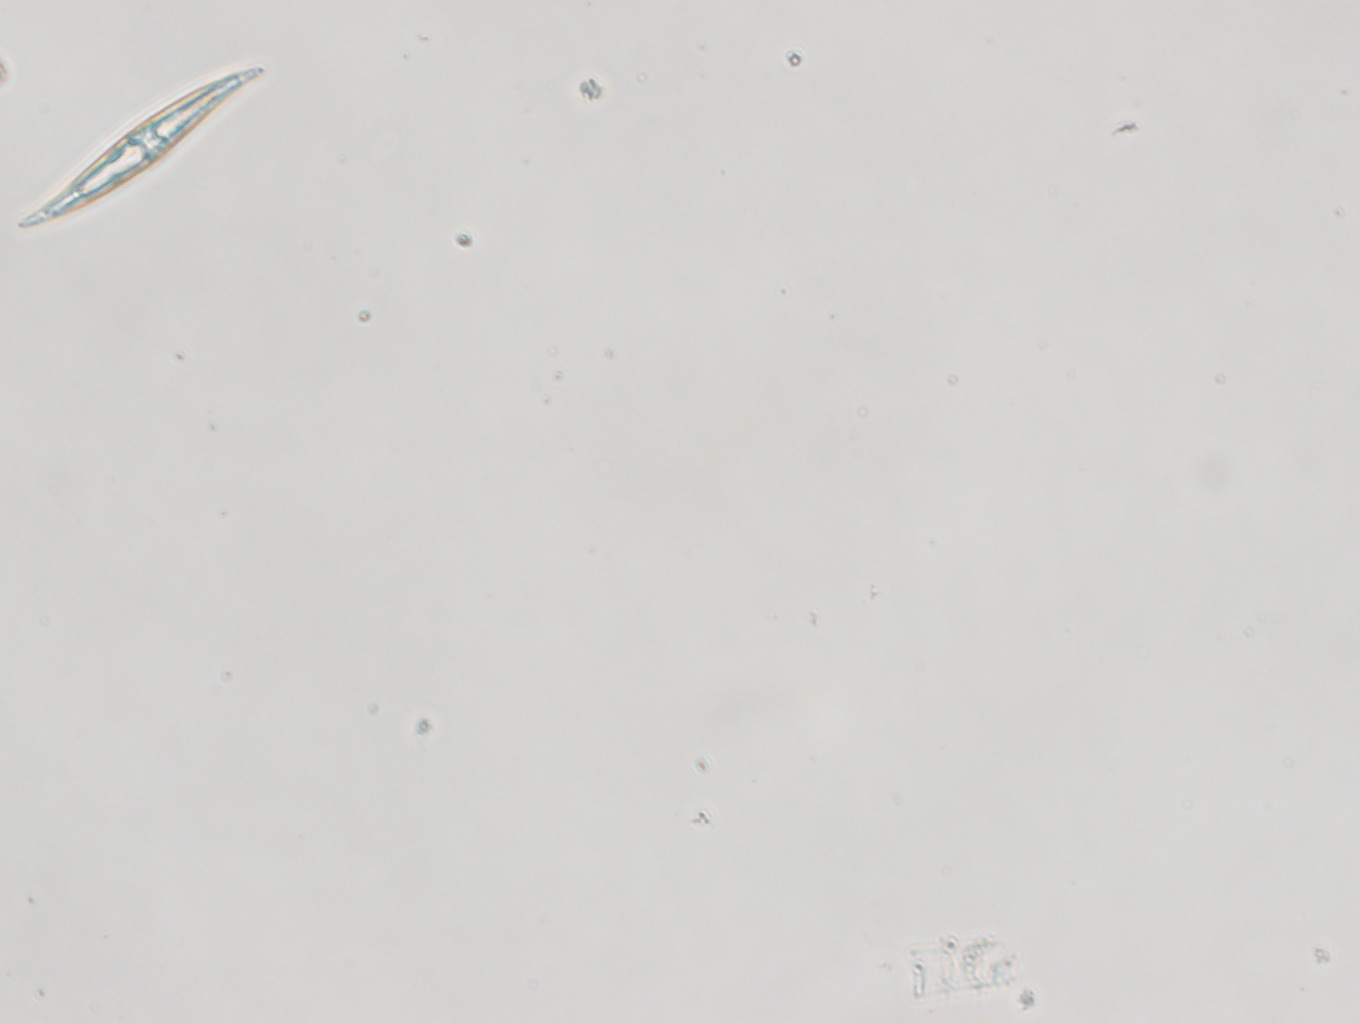pleurosigma pelagicum: (19, 55, 267, 237)
